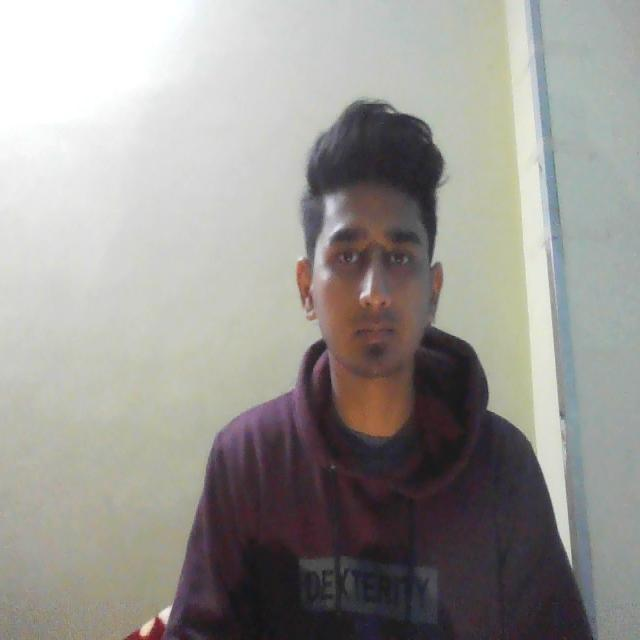real: (297, 121, 448, 407)
